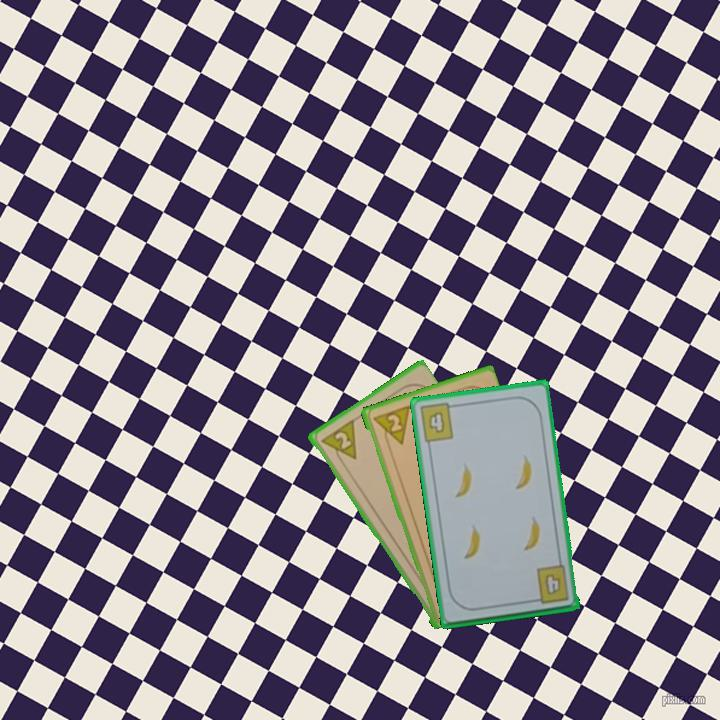2p: (316, 417, 359, 468), (368, 402, 412, 450)
4b: (416, 400, 460, 445), (528, 562, 572, 607)
